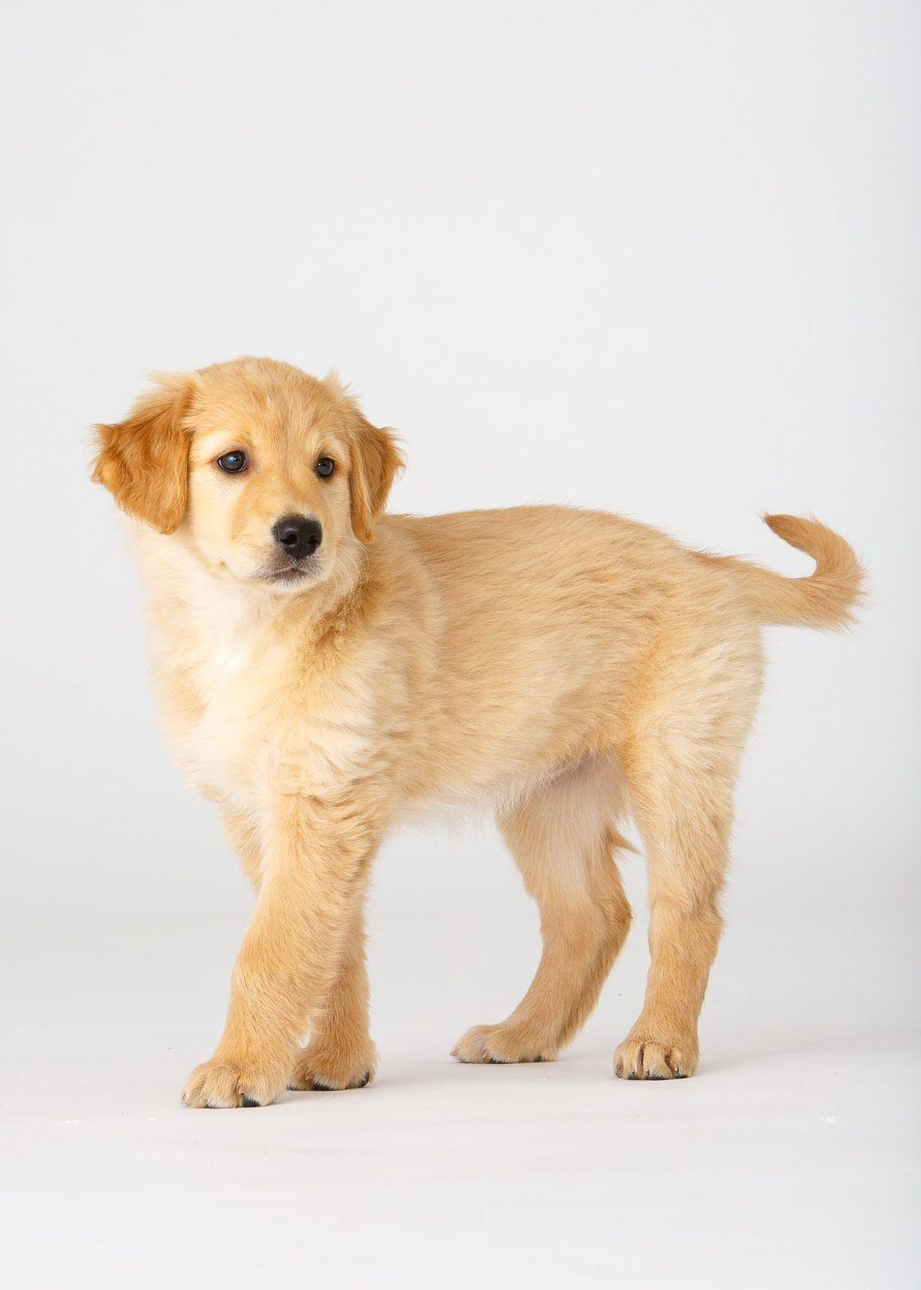puppy-dog: (87, 353, 875, 1112)
